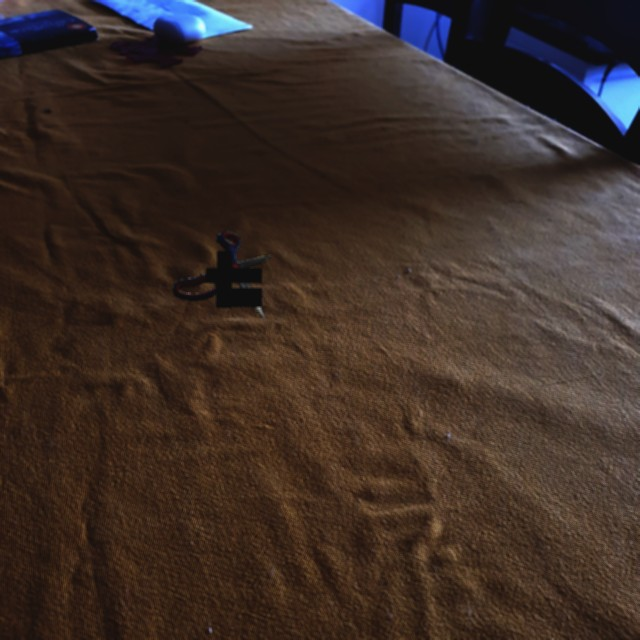scissors: (172, 231, 270, 318)
